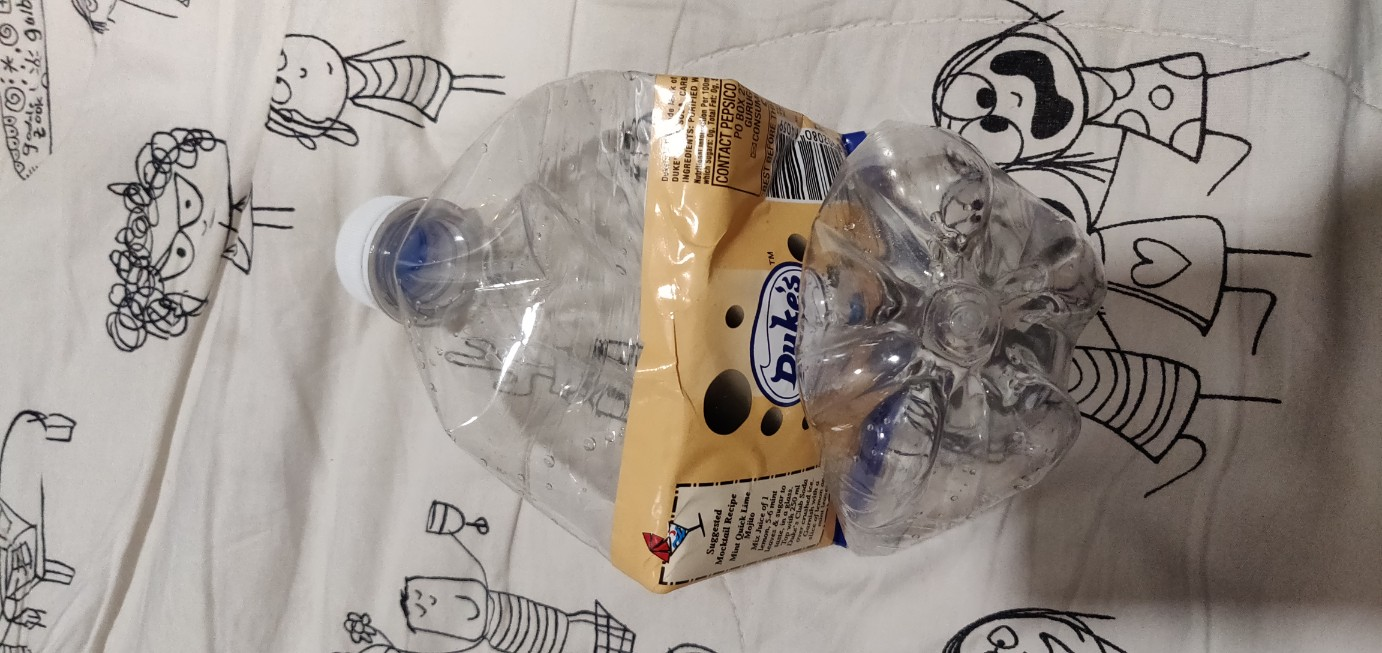Electronics: (317, 58, 1165, 615)
